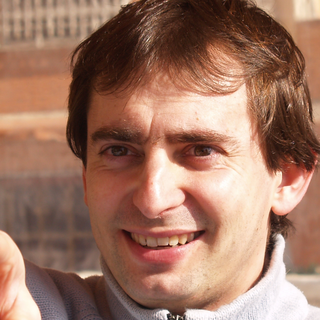eye: (167, 134, 235, 169), (90, 138, 142, 169)
